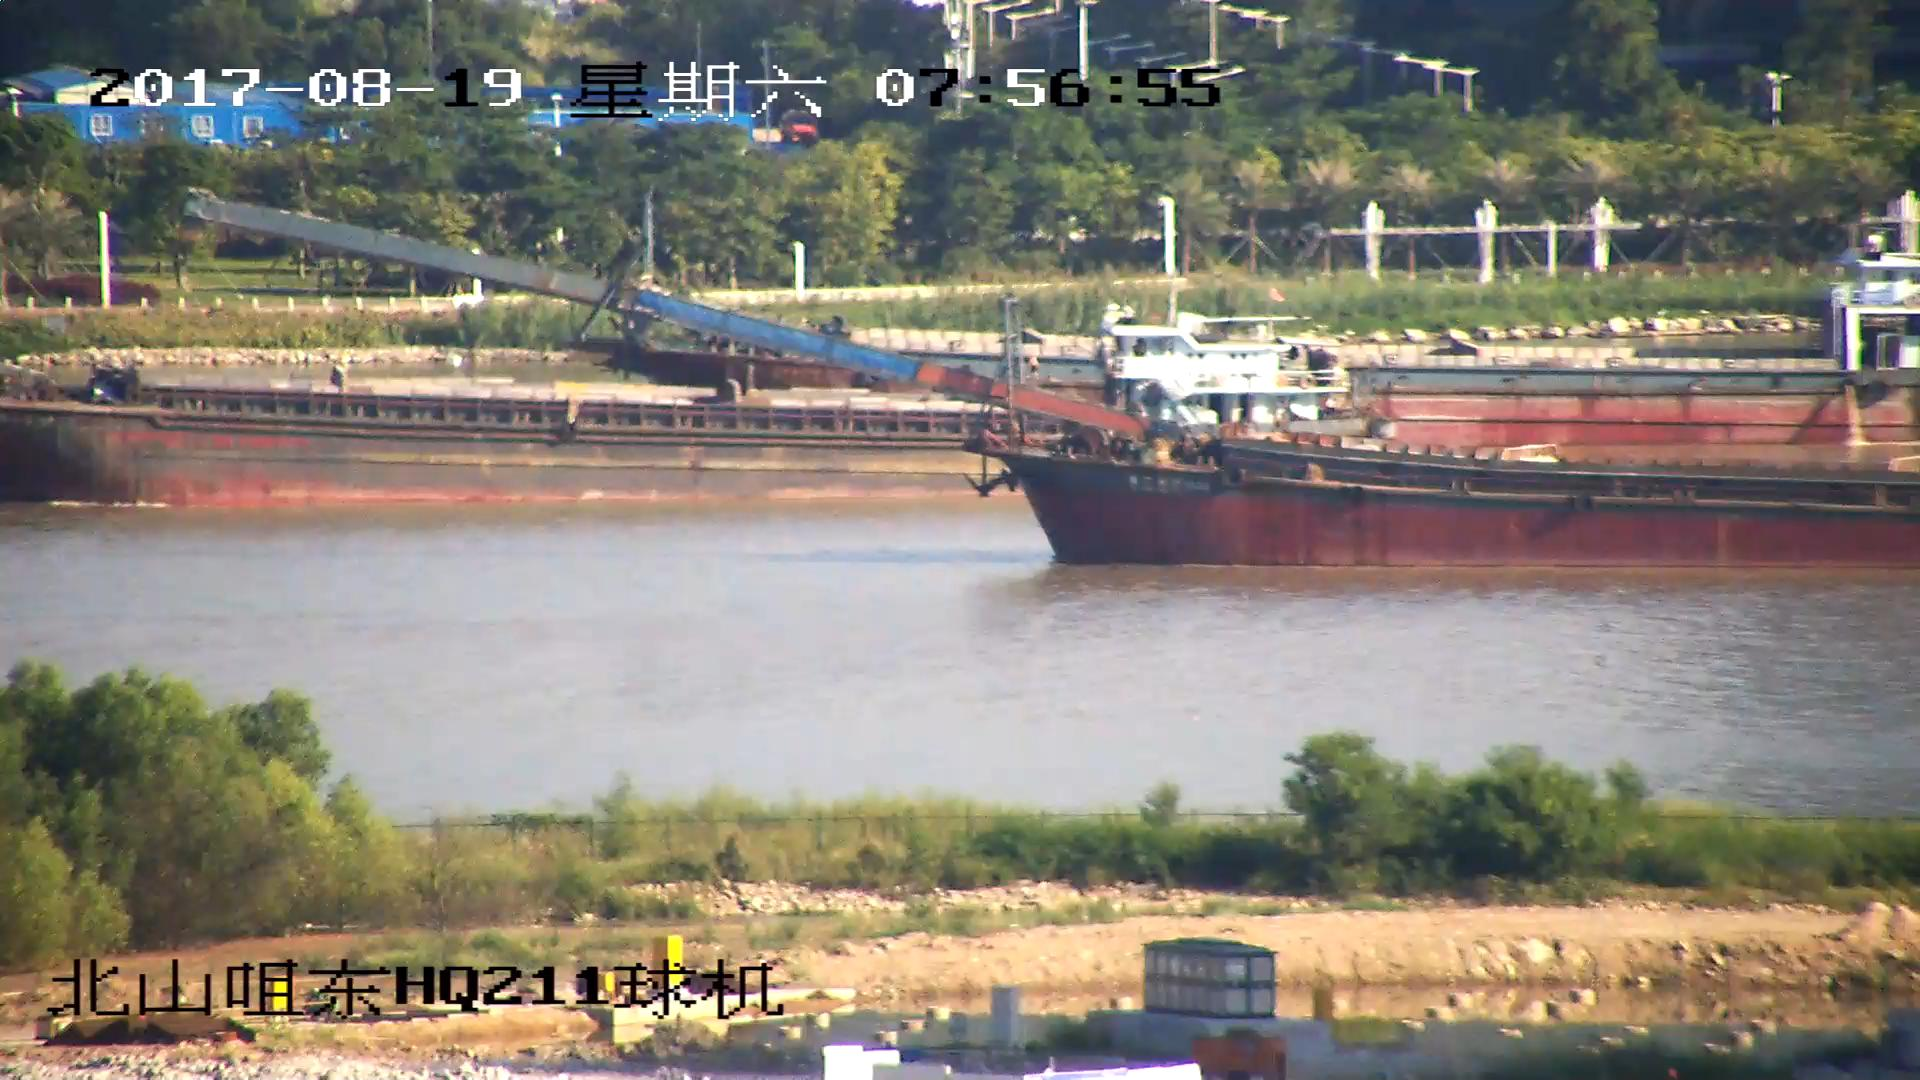bulk cargo carrier: (185, 193, 1920, 570), (1, 345, 958, 516)
